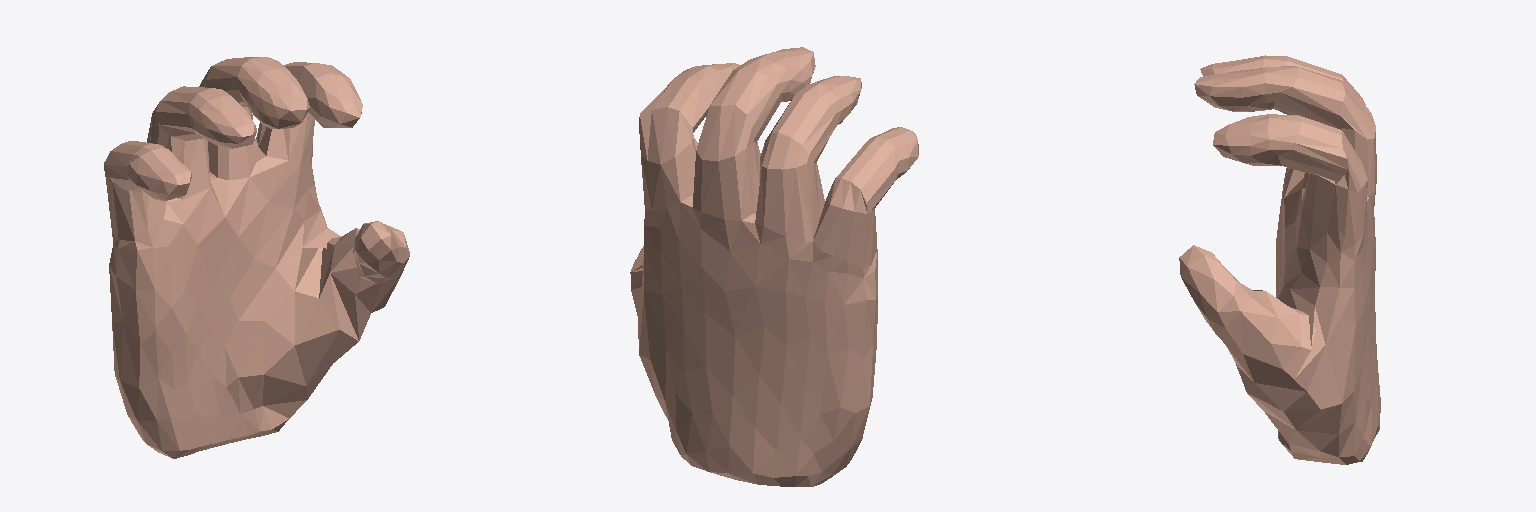
The model's file is CURVADOS.obj.
3 renders of one model, left to right at view 1: azimuth 30°, elevation 25°; view 2: azimuth 150°, elevation 25°; view 3: azimuth 270°, elevation 25°, orthographic.
Parts seen in each view (by area): view 1: mao_dir:mao_dir; view 2: mao_dir:mao_dir; view 3: mao_dir:mao_dir.
Boxes of the visible parts, x1,y1,x2,y2 form: mao_dir:mao_dir: [104, 57, 409, 458]; mao_dir:mao_dir: [630, 47, 918, 486]; mao_dir:mao_dir: [1179, 55, 1380, 464].
Bounding box in the file's own units: 140 × 196 × 93.97.